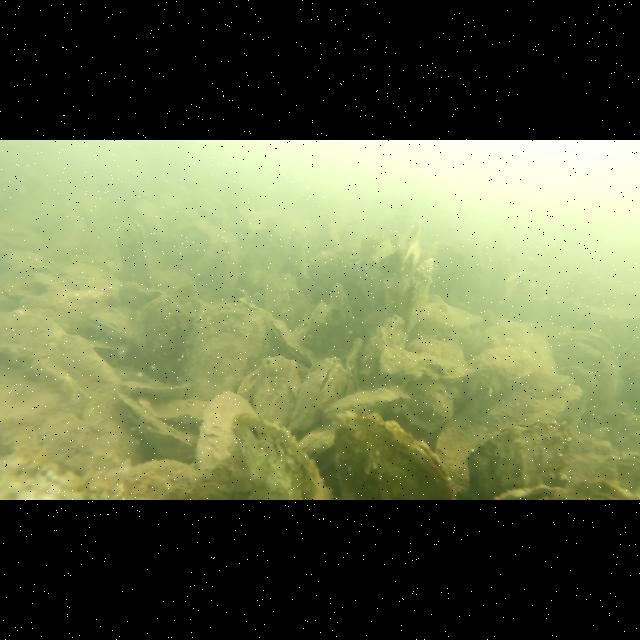Oyster-Closed: (438, 370, 578, 472), (333, 410, 455, 500), (228, 412, 328, 501), (182, 302, 274, 398), (468, 422, 570, 501), (548, 328, 620, 428), (140, 284, 202, 382), (118, 394, 194, 458), (237, 356, 299, 432), (198, 392, 256, 473), (464, 346, 532, 396), (322, 386, 410, 420), (402, 377, 454, 433), (137, 396, 207, 426), (327, 282, 357, 338), (304, 301, 332, 351), (298, 423, 338, 455), (268, 284, 296, 326)
Oyster-Open: (287, 358, 345, 434), (358, 314, 406, 381), (397, 247, 435, 319), (115, 219, 153, 287), (266, 316, 312, 360), (86, 310, 138, 342)
